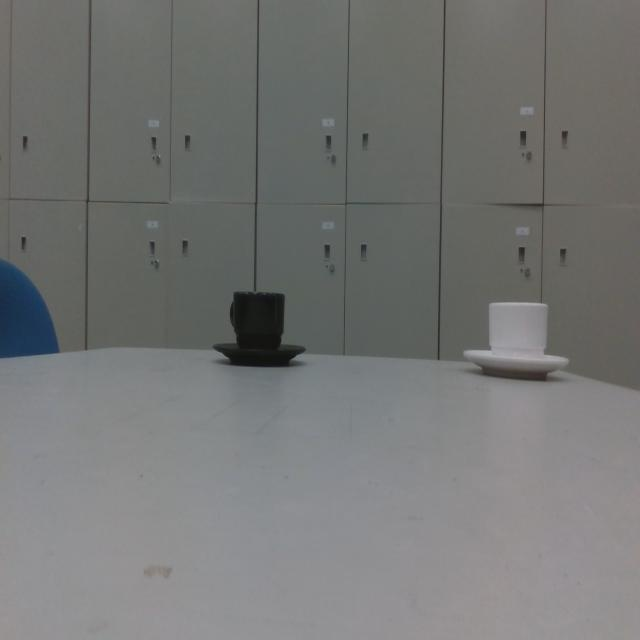black: (212, 288, 306, 368)
white: (461, 301, 571, 384)
